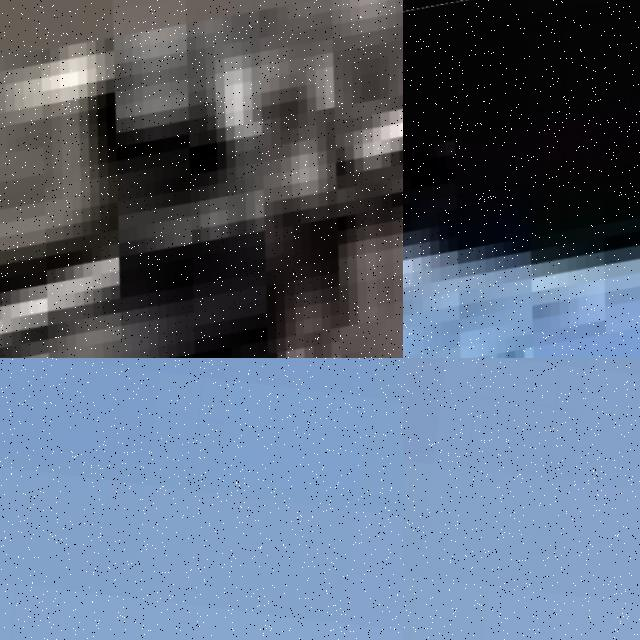drone: (0, 0, 403, 358), (403, 0, 640, 358)
